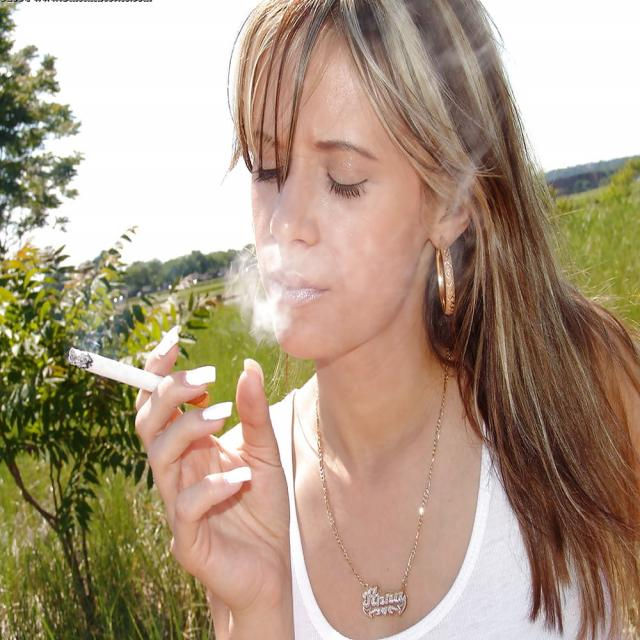cigarette: (61, 338, 215, 409)
